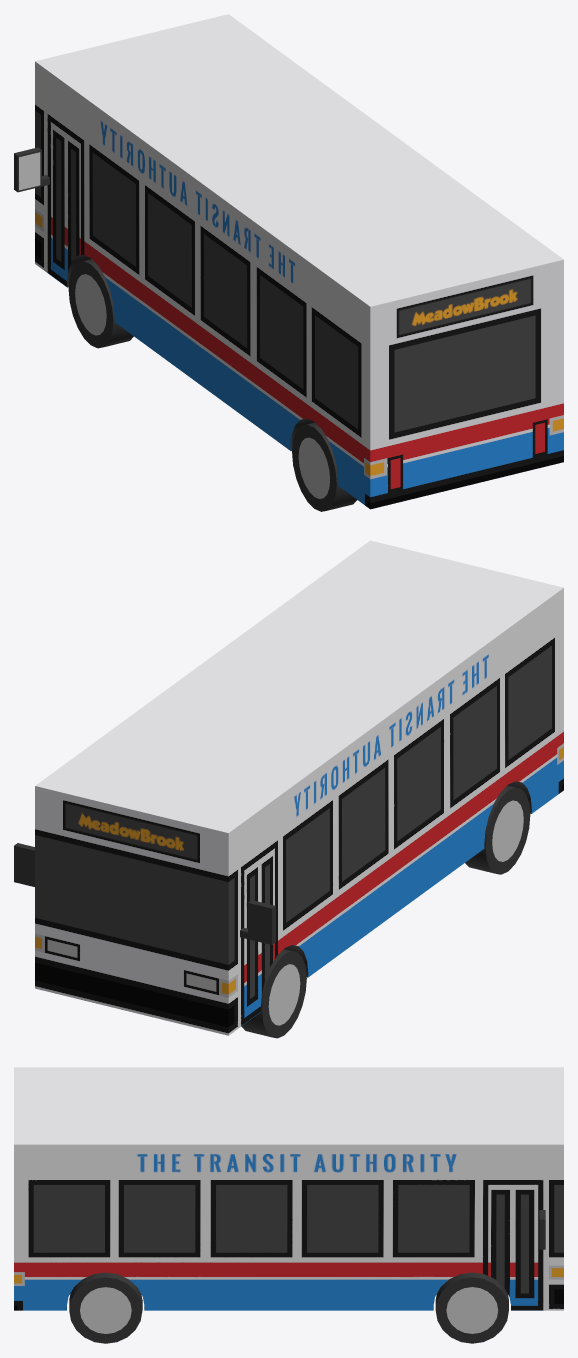
The model's file is BusRace.FBX.
The picture shows the model from 3 angles, top to bottom: view 1: azimuth 30°, elevation 25°; view 2: azimuth 150°, elevation 25°; view 3: azimuth 270°, elevation 25°; orthographic projection. The views are drawn at different scales.
Visible parts, largest first — view 1: Box001, Object004, Object003; view 2: Box001, Object004, Object003; view 3: Box001, Object002, Object005.
Boxes of the visible parts, bbox=[...] form: Box001: bbox=[14, 14, 563, 509]; Object004: bbox=[68, 259, 133, 348]; Object003: bbox=[292, 422, 356, 511]; Box001: bbox=[14, 540, 563, 1035]; Object004: bbox=[241, 949, 306, 1038]; Object003: bbox=[465, 785, 530, 874]; Box001: bbox=[14, 1067, 563, 1310]; Object002: bbox=[69, 1272, 142, 1343]; Object005: bbox=[435, 1272, 508, 1343].
Size of the model in its own units: 20 by 18 by 45.
